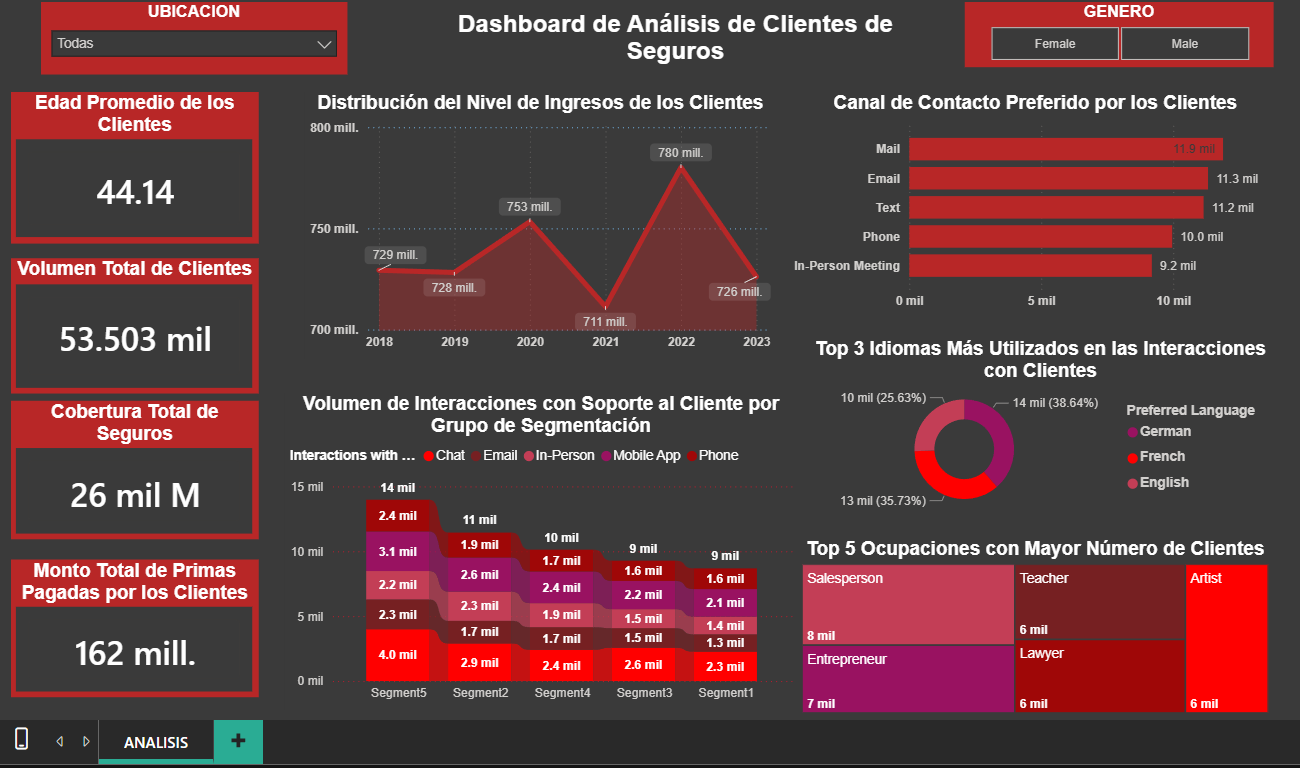

The page's visual inventory and layout, read from the dashboard file:
{"tool":"powerbi","page":{"name":"ANALISIS ","canvas":[1280,720],"ordinal":0},"visuals":[{"type":"cardVisual","title":"Edad Promedio de los Clientes","fields":{"Data":["customer_segmentation_data.promedio_edad"]},"box":[14.7,103.1,242.9,148.5],"z":0},{"type":"cardVisual","title":"Volumen Total de Clientes","fields":{"Data":["customer_segmentation_data.total_clientes"]},"box":[14.7,266.3,242.9,132.5],"z":1000},{"type":"cardVisual","title":"Cobertura Total de Seguros","fields":{"Data":["customer_segmentation_data.cobertura_total"]},"box":[14.7,406.1,242.9,136.2],"z":2000},{"type":"cardVisual","title":"Monto Total de Primas Pagadas por los Clientes","fields":{"Data":["customer_segmentation_data.pago_clientes"]},"box":[14.7,562,242.9,135],"z":3000},{"type":"lineChart","title":" Distribución del Nivel de Ingresos de los Clientes ","fields":{"Category":["customer_segmentation_data.Purchase History.Variación.Jerarquía de fechas.Año"],"Y":["Sum(customer_segmentation_data.Income Level)"]},"box":[303.1,103.1,462.6,261.4],"z":4000},{"type":"columnChart","title":"Volumen de Interacciones con Soporte al Cliente por Grupo de Segmentación","fields":{"Category":["customer_segmentation_data.Segmentation Group"],"Y":["customer_segmentation_data.total_clientes"],"Series":["customer_segmentation_data.Interactions with Customer Service"]},"box":[283.4,398.8,503.1,310.4],"z":5000},{"type":"barChart","title":"Canal de Contacto Preferido por los Clientes","fields":{"Category":["customer_segmentation_data.Customer Preferences"],"Y":["customer_segmentation_data.total_clientes"]},"box":[776.7,103.1,487.1,220.9],"z":6000},{"type":"donutChart","title":"Top 3 Idiomas Más Utilizados en las Interacciones con Clientes","fields":{"Category":["customer_segmentation_data.Preferred Language"],"Y":["customer_segmentation_data.total_clientes"]},"box":[786.5,344.8,477.3,176.7],"z":7000},{"type":"treemap","title":"Top 5 Ocupaciones con Mayor Número de Clientes","fields":{"Group":["customer_segmentation_data.Occupation"],"Values":["customer_segmentation_data.total_clientes"]},"box":[786.5,541.1,467.5,176.7],"z":8000},{"type":"textbox","title":"Dashboard de Análisis de Clientes de Seguros","box":[431.5,22,470.4,55.7],"z":8001},{"type":"slicer","title":"GENERO","fields":{"Values":["customer_segmentation_data.Gender"]},"box":[950.9,14.7,303.1,63.8],"z":8002},{"type":"slicer","title":"UBICACION","fields":{"Values":["customer_segmentation_data.Geographic Information"]},"box":[44.2,14.7,300.6,71.2],"z":8003}]}

Visuals, with their boxes on the page's 1280x720 design canvas (x1, y1, x2, y2). These are canvas units, not pixel positions in the 1300x768 screenshot, which may show the page scaled, cropped or inside an application window:
"Edad Promedio de los Clientes" cardVisual: 15, 103, 258, 252
"Volumen Total de Clientes" cardVisual: 15, 266, 258, 399
"Cobertura Total de Seguros" cardVisual: 15, 406, 258, 542
"Monto Total de Primas Pagadas por los Clientes" cardVisual: 15, 562, 258, 697
" Distribución del Nivel de Ingresos de los Clientes " lineChart: 303, 103, 766, 364
"Volumen de Interacciones con Soporte al Cliente por Grupo de Segmentación" columnChart: 283, 399, 786, 709
"Canal de Contacto Preferido por los Clientes" barChart: 777, 103, 1264, 324
"Top 3 Idiomas Más Utilizados en las Interacciones con Clientes" donutChart: 786, 345, 1264, 522
"Top 5 Ocupaciones con Mayor Número de Clientes" treemap: 786, 541, 1254, 718
"Dashboard de Análisis de Clientes de Seguros" textbox: 432, 22, 902, 78
"GENERO" slicer: 951, 15, 1254, 78
"UBICACION" slicer: 44, 15, 345, 86
